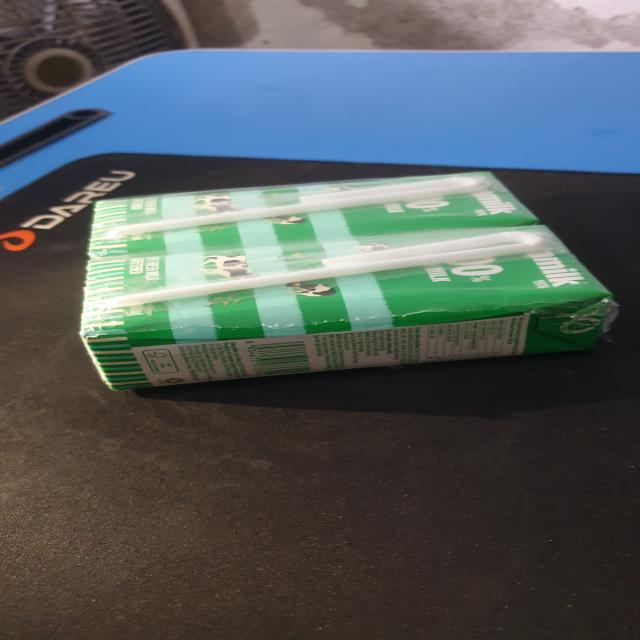Vina: (79, 223, 617, 397), (88, 170, 542, 259)
